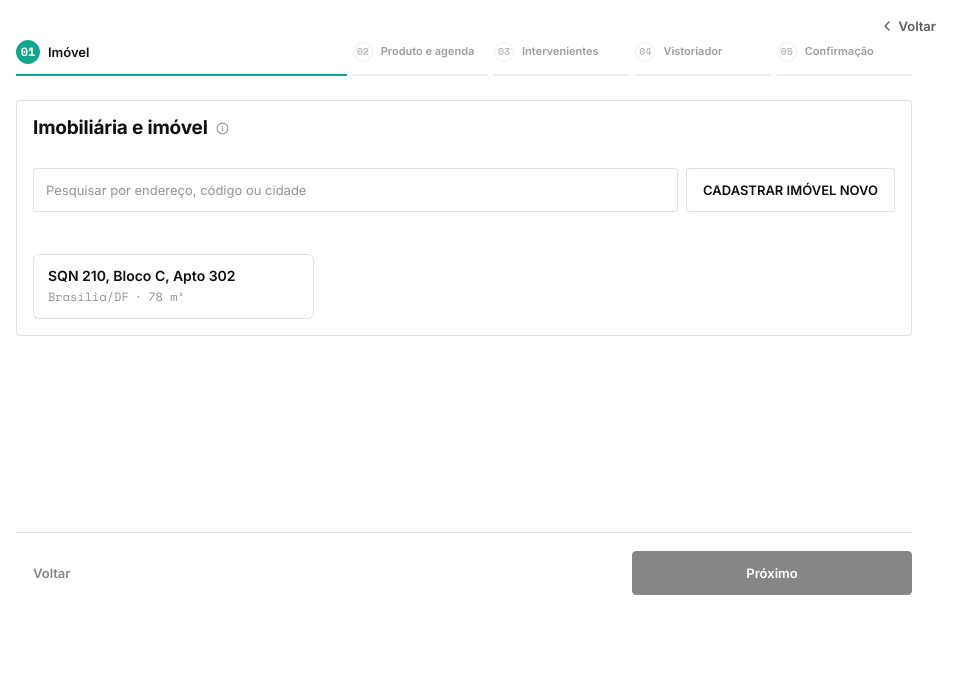
Test: Wizard › contrato percentual: exige Valor do aluguel para avançar da etapa de serviço
The width and height of the screenshot is (953, 688).
Click the text "SQN 210, Bloco C, Apto 302": (153,276) [48, 267, 258, 285]
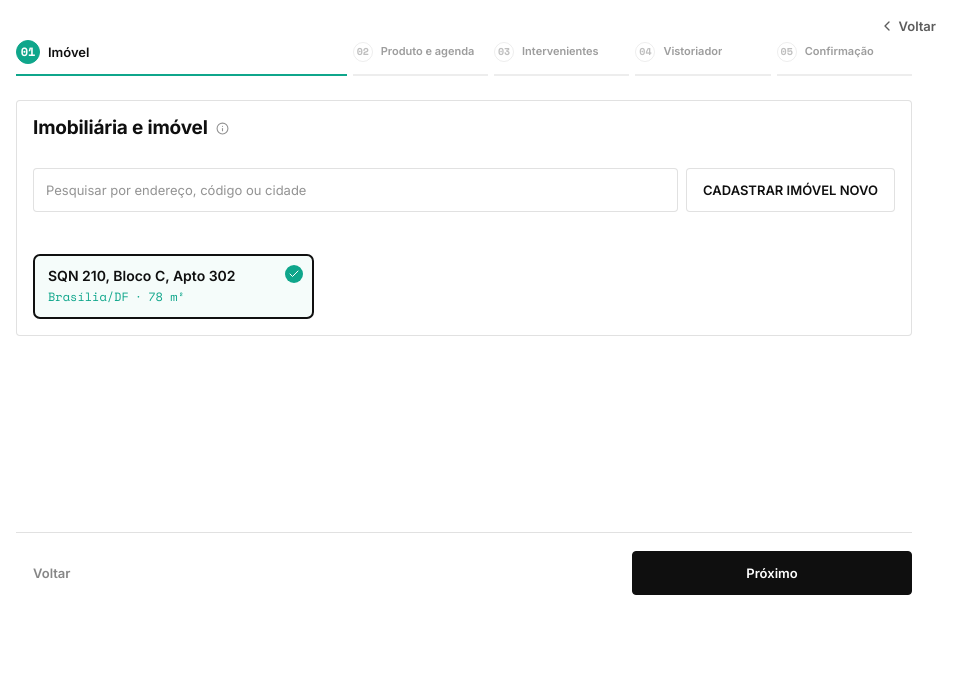
Click the button "Próximo": (772,573) [632, 551, 912, 595]
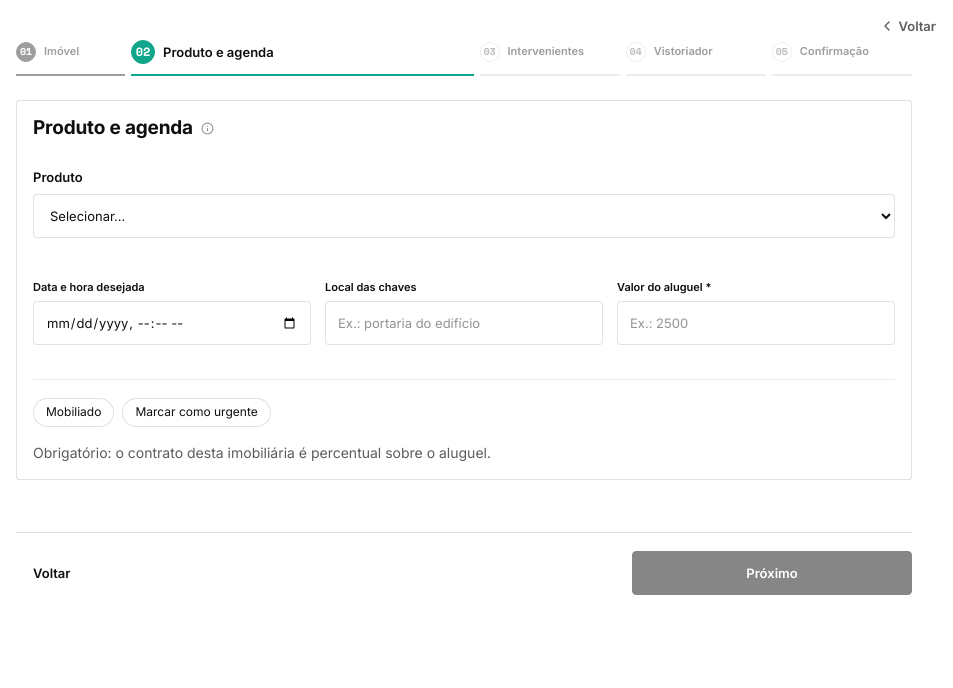
Select "Elegance" in the dropdown labelled "Produto": (464,216) [33, 194, 895, 238]
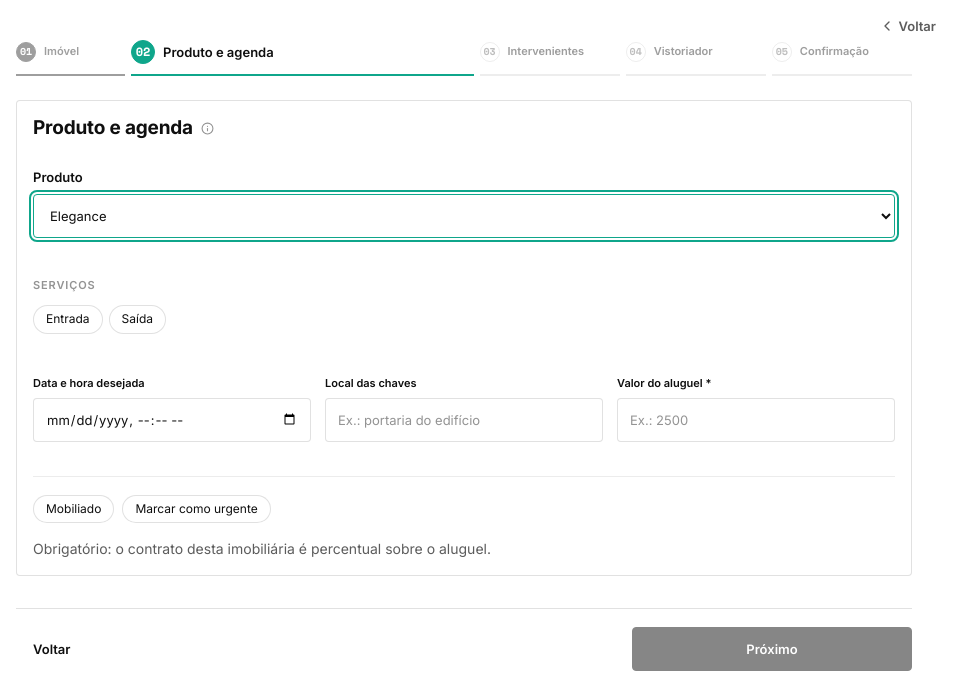
Click the button "Entrada": (68,320) [33, 305, 103, 334]
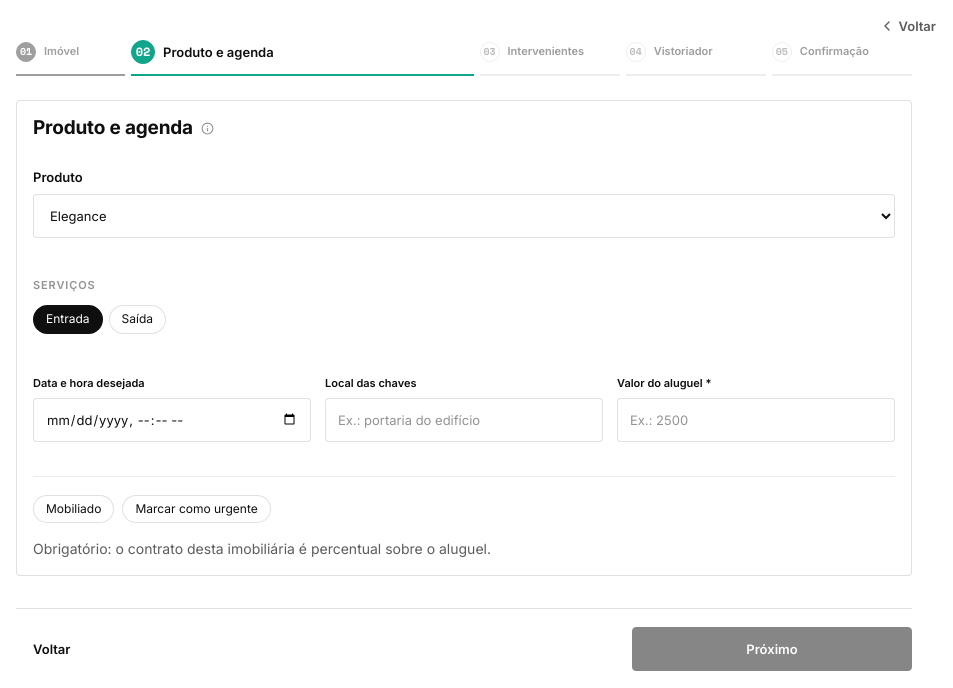
In the field labelled "Data e hora desejada": (172,420) [33, 398, 311, 442], type "2026-09-20T10:00"
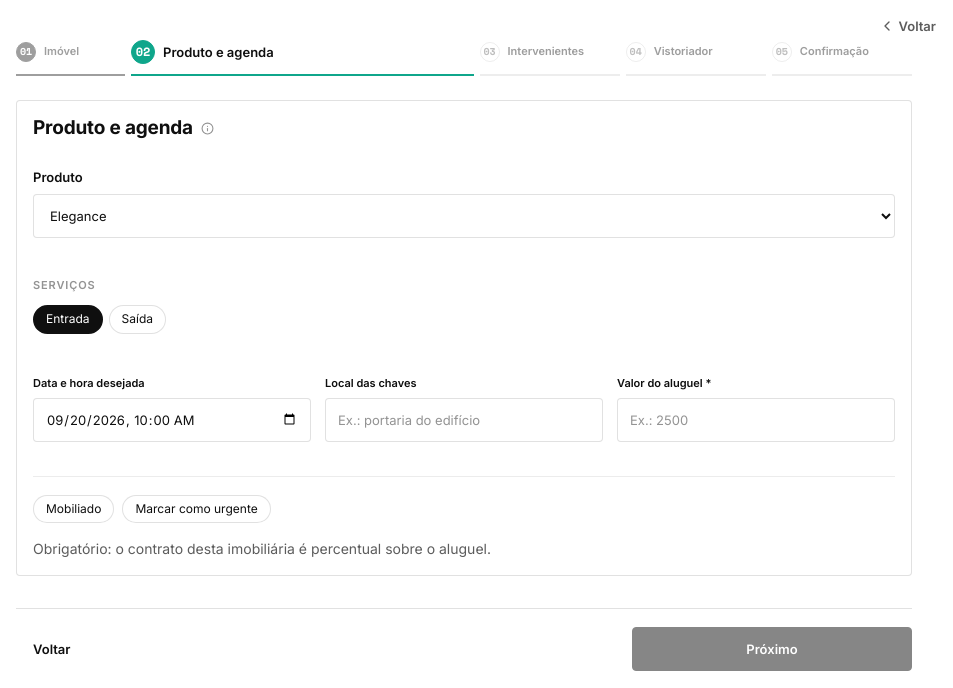
Now the button "Próximo" is disabled, box [632, 627, 912, 671]
In the number field labelled "Valor do aluguel *": (756,420) [617, 398, 895, 442], type "3000"
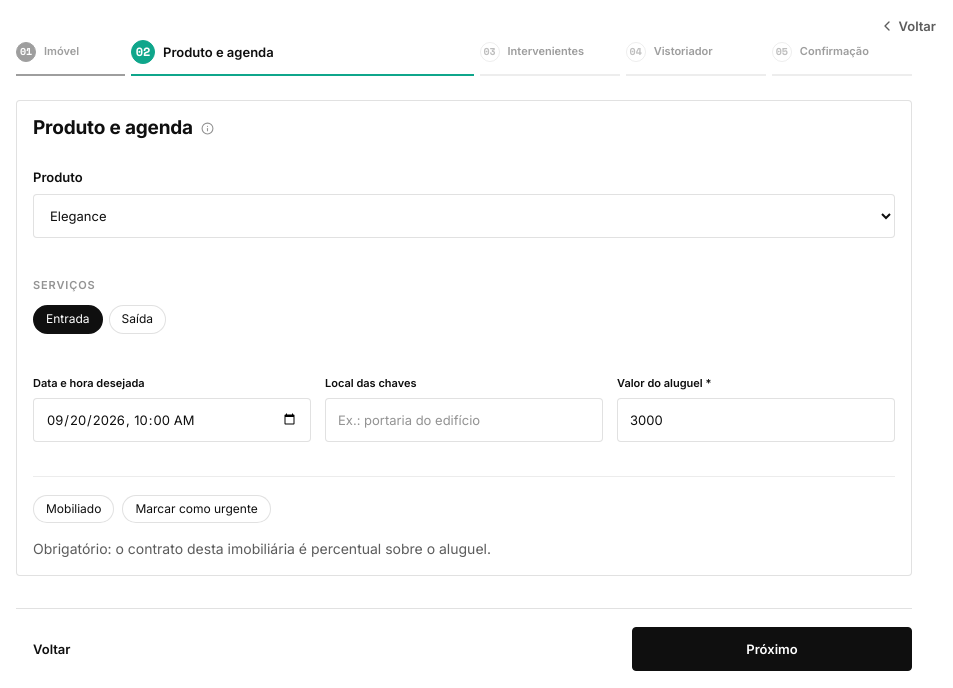
Now the button "Próximo" is enabled, box [632, 627, 912, 671]
